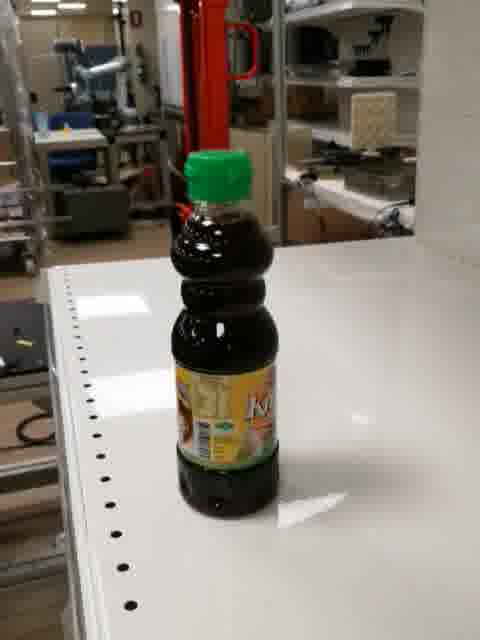cookingoil: (168, 146, 284, 523)
